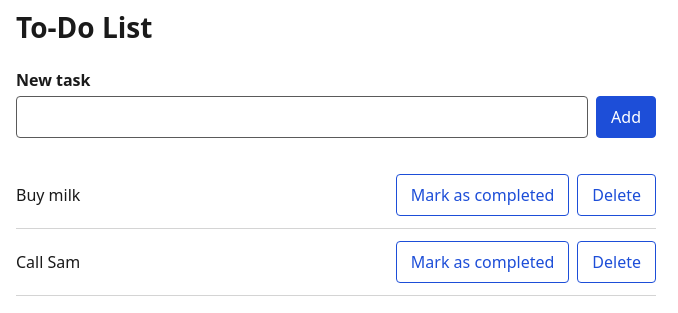
TaskListPage — US3 delete › Edge gone (T066): a 404 removes the task and says it no longer exists
Click the button named "Delete: Buy milk": (617,195) [577,174,656,216]
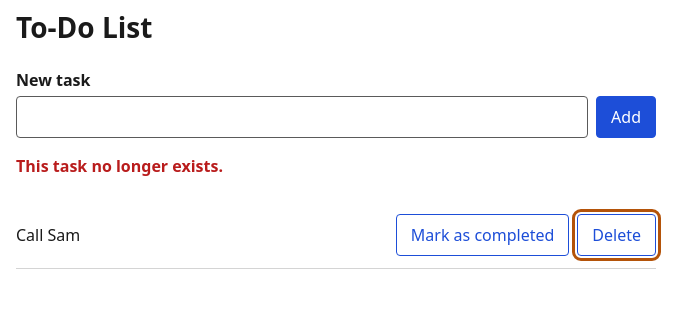
Expected: the text "Buy milk" is gone
Expected: the text with test id "error-message" reads "This task no longer exists.", [16,155,223,177]
